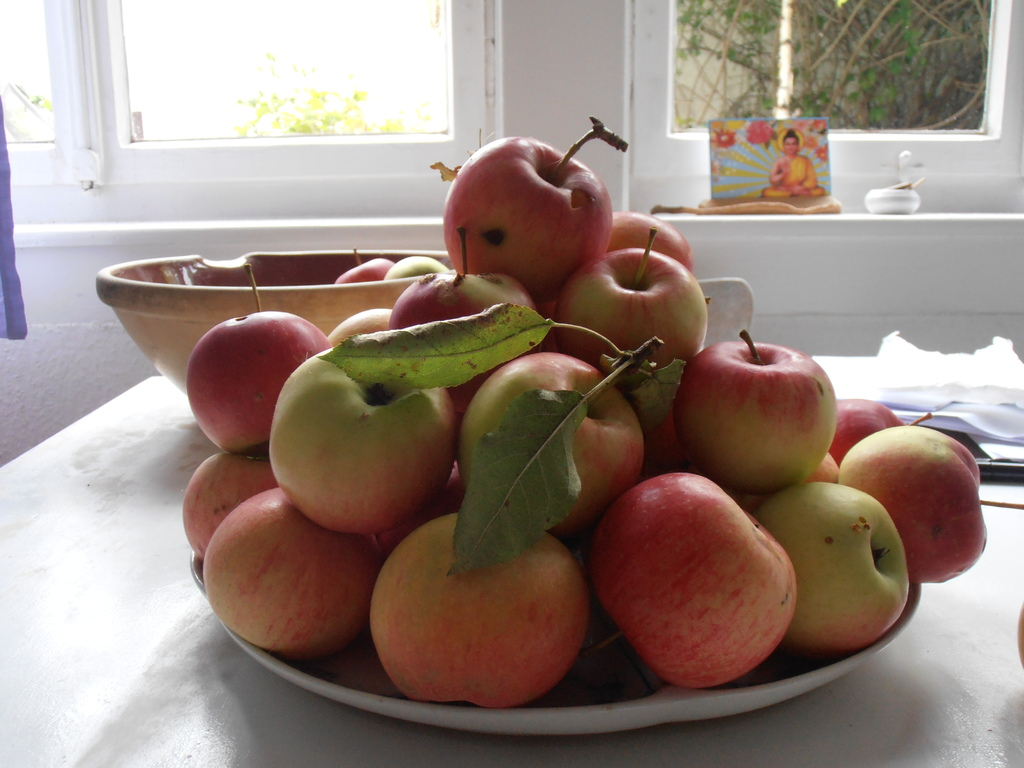Apple: (179, 116, 1023, 707), (586, 469, 798, 691)
